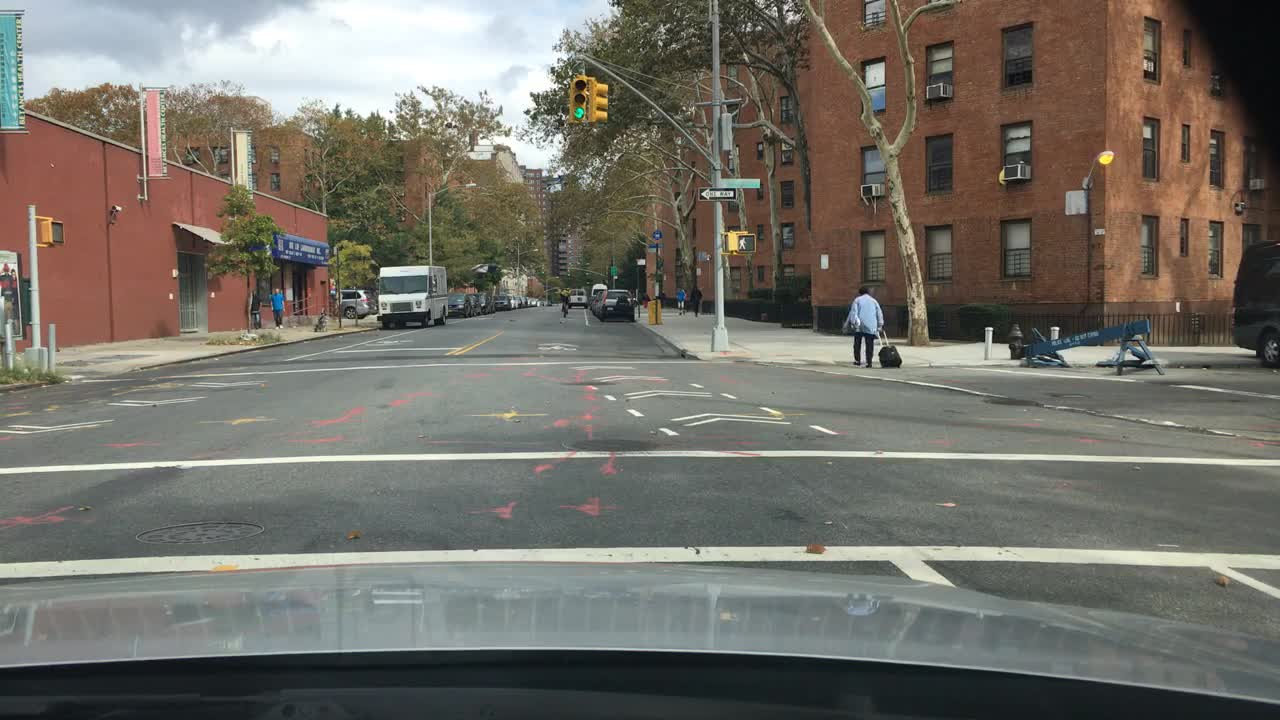car: (1230, 238, 1279, 368), (594, 287, 638, 322), (334, 287, 376, 320), (444, 292, 472, 319), (568, 287, 589, 309), (465, 293, 484, 317), (585, 282, 607, 302), (476, 290, 494, 314), (489, 293, 509, 312), (589, 288, 602, 314), (514, 297, 530, 310), (526, 295, 540, 307), (508, 297, 521, 307)
person: (840, 283, 884, 369), (265, 283, 288, 327), (246, 287, 261, 329), (685, 282, 702, 314), (556, 285, 572, 316), (675, 282, 685, 315)
traffic light: (589, 77, 609, 121), (568, 71, 585, 121), (39, 218, 62, 243), (727, 233, 752, 253)
traffic sign: (719, 175, 759, 189), (697, 185, 735, 199), (651, 226, 663, 239), (644, 245, 663, 253), (607, 261, 617, 275)
truck: (374, 260, 449, 331)
